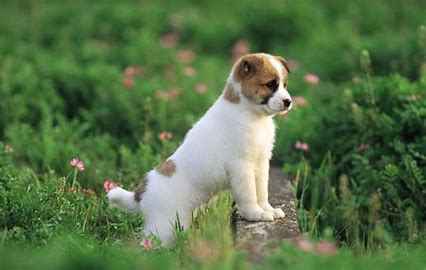dog: (114, 37, 310, 252)
